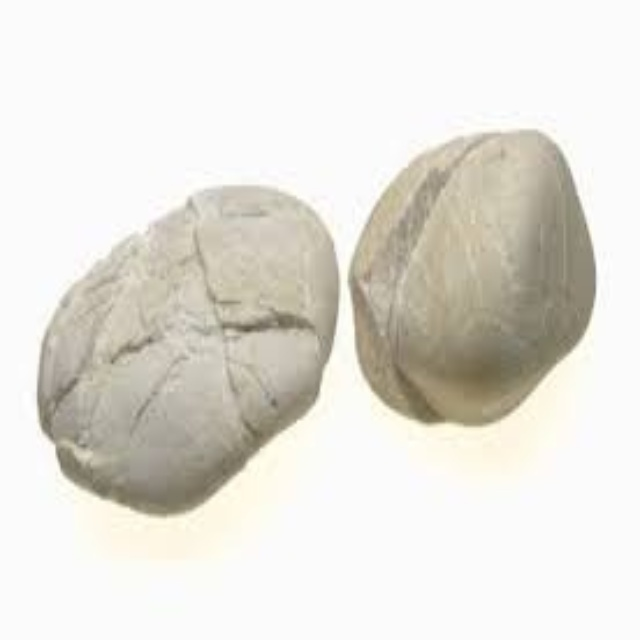obstacle: (37, 185, 336, 511), (350, 129, 591, 420)
